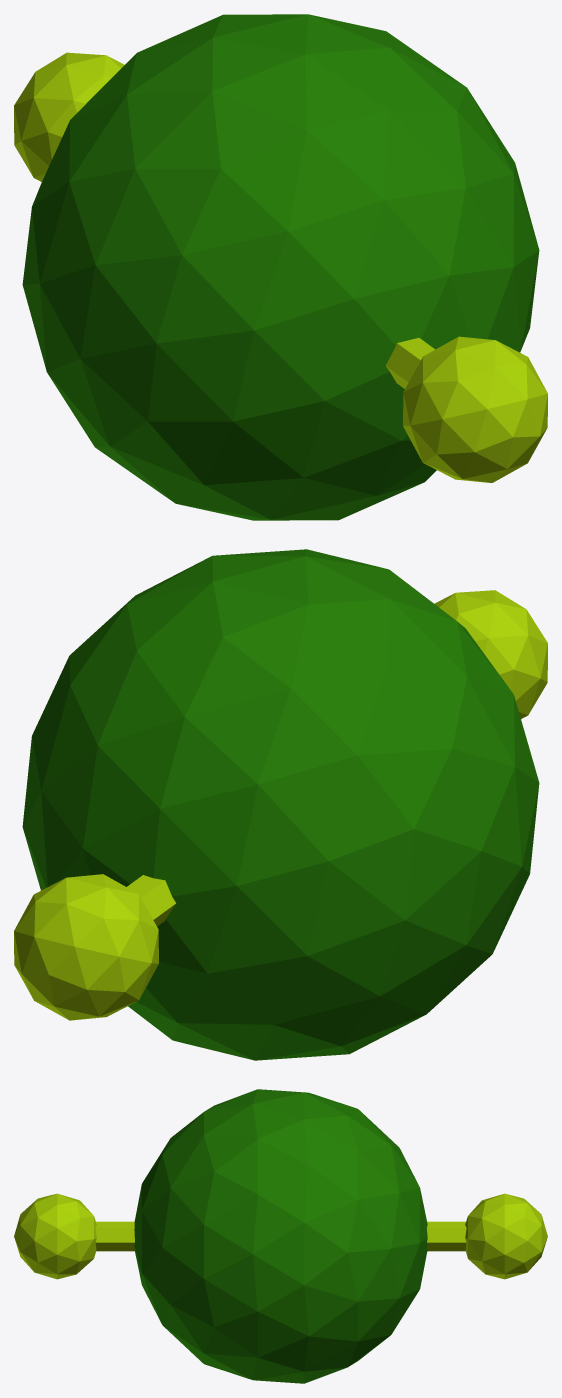
File: Probe.fbx
3 renders of one model, top to bottom at view 1: azimuth 30°, elevation 25°; view 2: azimuth 150°, elevation 25°; view 3: azimuth 270°, elevation 25°, orthographic. The views are drawn at different scales.
Parts seen in each view (by area): view 1: Probe_Blue; view 2: Probe_Blue; view 3: Probe_Blue.
Part boxes in pixels (x1=…): Probe_Blue: x1=14, y1=14, x2=547, y2=520; Probe_Blue: x1=14, y1=549, x2=547, y2=1060; Probe_Blue: x1=14, y1=1089, x2=547, y2=1383.
Size of the model in its own units: 197 by 196 by 358.
